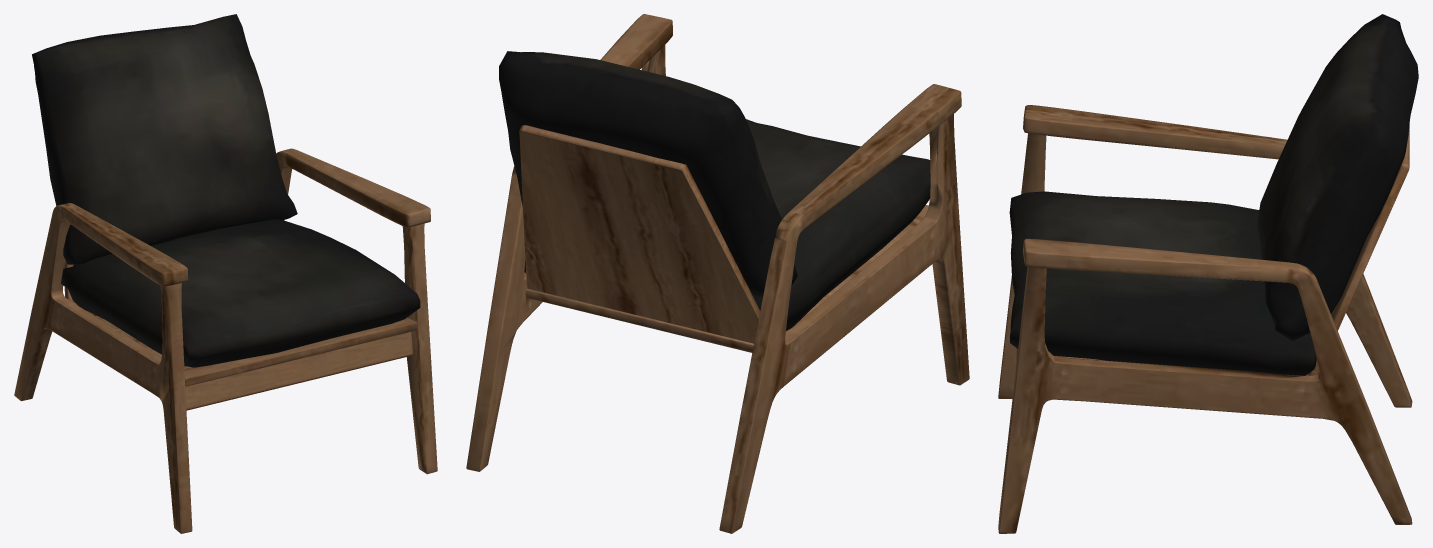
File: hp_room_cc0_armchair2.glb
The picture shows the model from 3 angles, left to right: view 1: azimuth 30°, elevation 25°; view 2: azimuth 150°, elevation 25°; view 3: azimuth 270°, elevation 25°; orthographic projection. The views are drawn at different scales.
Visible parts, largest first — view 1: modern_arm_chair_01; view 2: modern_arm_chair_01; view 3: modern_arm_chair_01.
Part boxes in pixels (bbox=[...]): modern_arm_chair_01: bbox=[14, 14, 437, 533]; modern_arm_chair_01: bbox=[466, 14, 969, 533]; modern_arm_chair_01: bbox=[998, 14, 1418, 533].
Bounding box in the file's own units: 0.8203 × 1.02 × 0.9865.
Materials: 2 (2 with a texture image).
